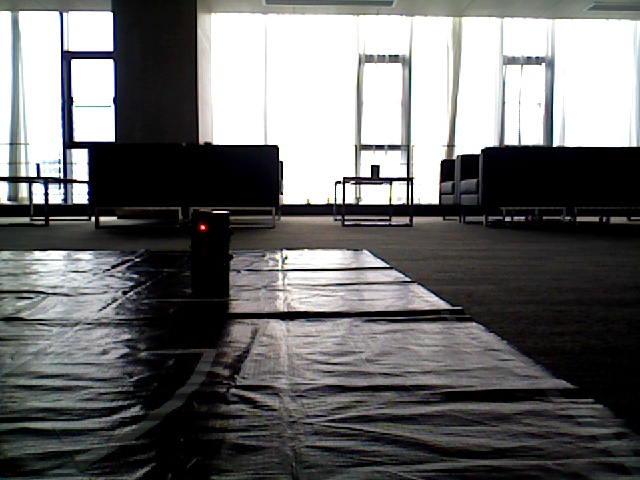red: (186, 211, 227, 283)
